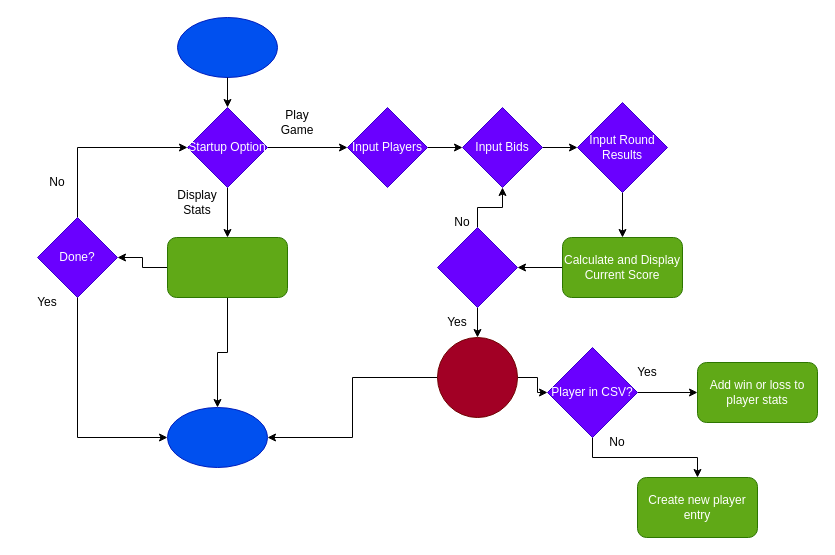
This 835x555 diagram has some shape labels left out. Each missing label, with the centre of its shape:
End: (x=217, y=437)
For each player:: (x=477, y=377)
Format and Display Player Stats: (x=227, y=267)
Game Over?: (x=477, y=267)
Start: (x=227, y=47)
